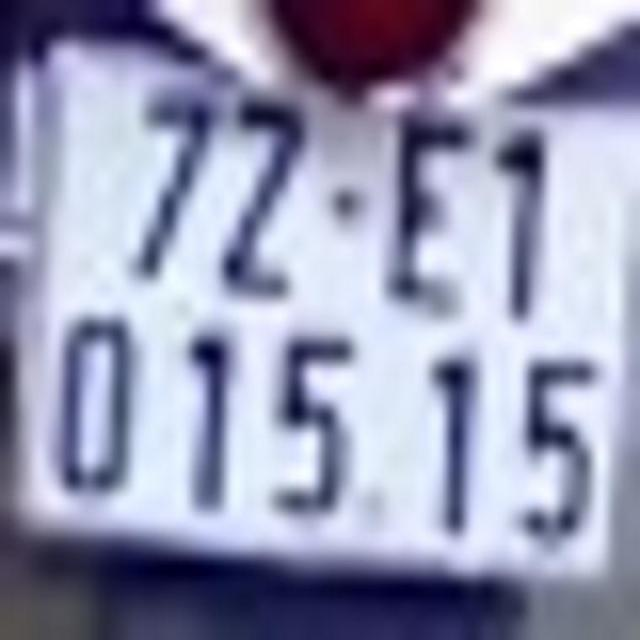0: (56, 313, 148, 506)
1: (177, 323, 233, 511), (430, 334, 477, 536), (504, 127, 548, 320)
5: (522, 349, 596, 554), (280, 333, 356, 530)
7: (133, 88, 204, 282)
E: (396, 117, 466, 322)
Z: (231, 97, 308, 297)
